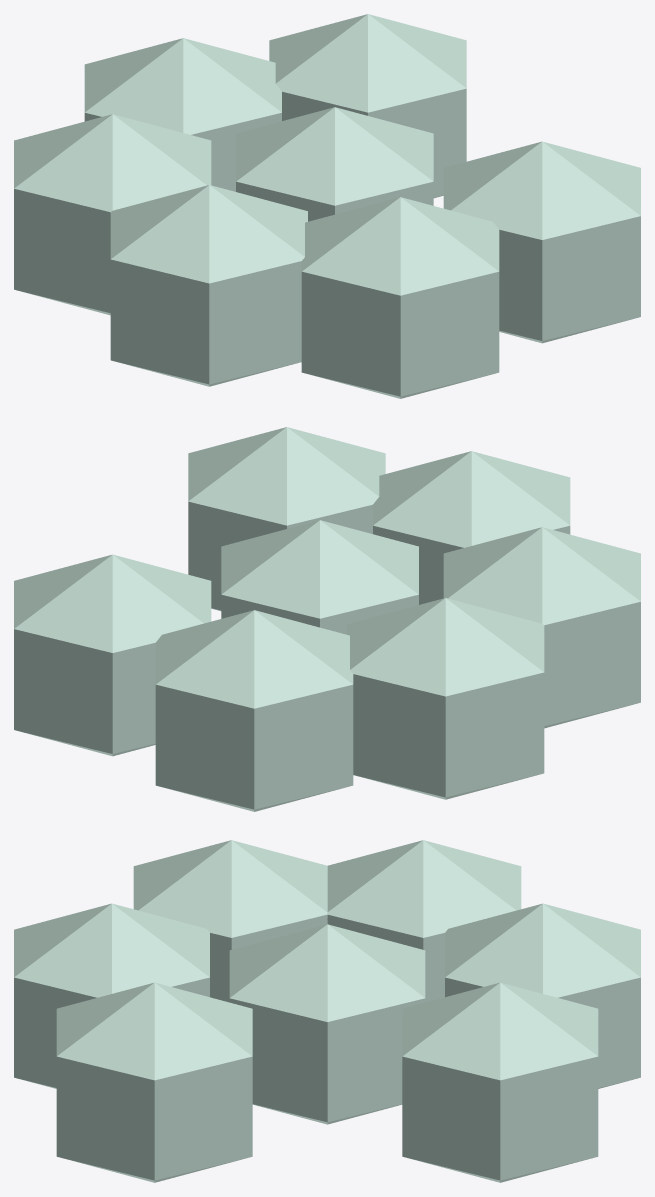
File: payload_prepared_silica_a.obj
The picture shows the model from 3 angles, top to bottom: view 1: azimuth 30°, elevation 25°; view 2: azimuth 150°, elevation 25°; view 3: azimuth 270°, elevation 25°; orthographic projection.
Parts seen in each view (by area): view 1: pellet_2, pellet_3, pellet_1, pellet_4, pellet_6, pellet_0, pellet_5; view 2: pellet_5, pellet_4, pellet_6, pellet_3, pellet_1, pellet_0, pellet_2; view 3: pellet_1, pellet_6, pellet_0, pellet_2, pellet_5, pellet_3, pellet_4.
Boxes of the visible parts, x1=… form: pellet_2: x1=301, y1=197, x2=499, y2=398; pellet_3: x1=110, y1=185, x2=307, y2=386; pellet_1: x1=443, y1=141, x2=640, y2=343; pellet_4: x1=14, y1=114, x2=211, y2=315; pellet_6: x1=269, y1=14, x2=466, y2=198; pellet_0: x1=236, y1=107, x2=433, y2=221; pellet_5: x1=84, y1=38, x2=281, y2=191; pellet_5: x1=155, y1=610, x2=353, y2=811; pellet_4: x1=347, y1=598, x2=544, y2=799; pellet_6: x1=14, y1=554, x2=211, y2=756; pellet_3: x1=443, y1=527, x2=640, y2=728; pellet_1: x1=188, y1=427, x2=385, y2=611; pellet_0: x1=221, y1=520, x2=418, y2=634; pellet_2: x1=373, y1=451, x2=570, y2=604; pellet_1: x1=56, y1=982, x2=252, y2=1182; pellet_6: x1=402, y1=982, x2=598, y2=1182; pellet_0: x1=229, y1=924, x2=425, y2=1124; pellet_2: x1=14, y1=903, x2=209, y2=1088; pellet_5: x1=445, y1=903, x2=640, y2=1088; pellet_3: x1=133, y1=840, x2=327, y2=1002; pellet_4: x1=327, y1=840, x2=521, y2=1002.
Size of the model in its own units: 0.5605 by 0.22 by 0.624.
